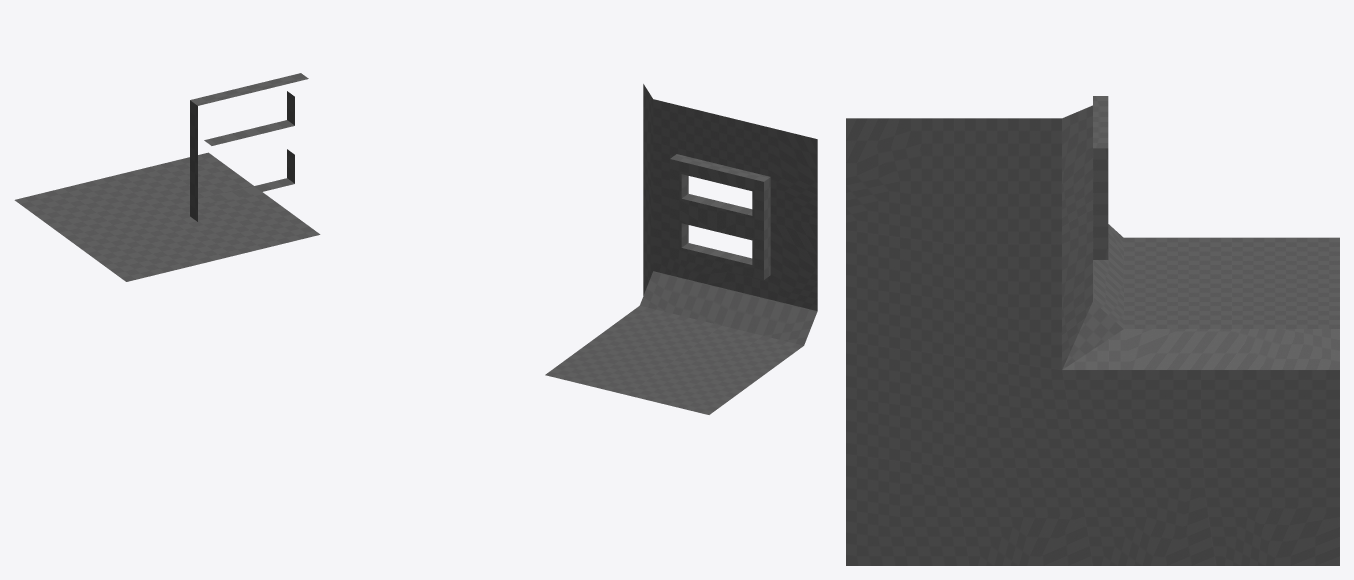
3 renders of one model, left to right at view 1: azimuth 30°, elevation 25°; view 2: azimuth 150°, elevation 25°; view 3: azimuth 270°, elevation 25°, orthographic. The views are drawn at different scales.
Visible parts, largest first — view 1: 1; view 2: 1; view 3: 1.
Part boxes in pixels (bbox=[...]): 1: bbox=[14, 73, 320, 281]; 1: bbox=[545, 84, 817, 414]; 1: bbox=[846, 96, 1339, 565].
Size of the model in its own units: 2 by 4 by 4.
Materials: 2 (2 with a texture image).
